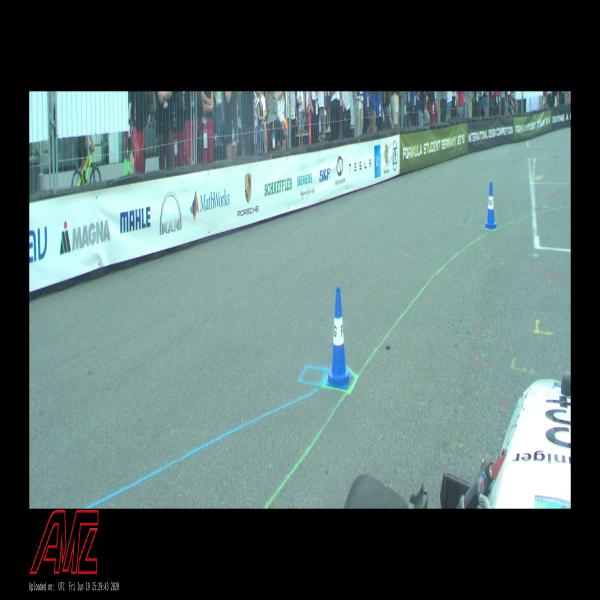blue_cone: (325, 287, 352, 391), (484, 182, 498, 231)
